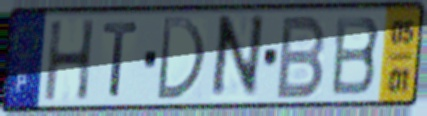B: (273, 12, 329, 102), (329, 13, 383, 99)
D: (153, 15, 208, 104)
H: (43, 17, 98, 104)
N: (207, 11, 268, 104)
T: (101, 19, 142, 100)
